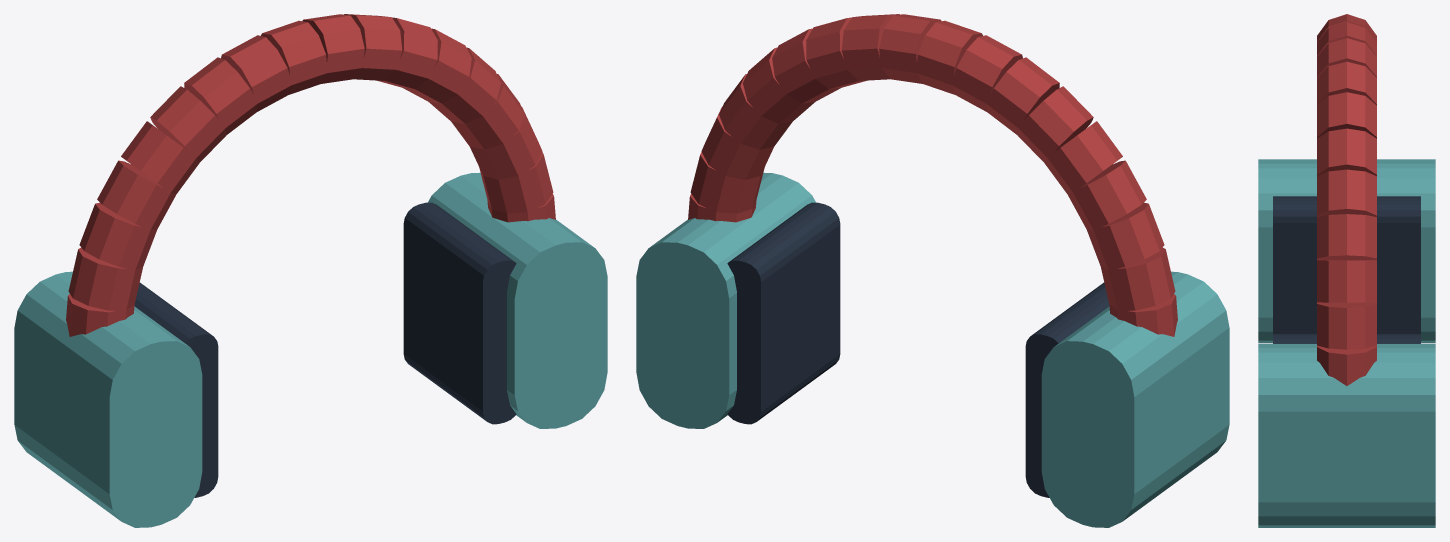
Rendered from headphones.glb.
3 views of the same model, side by side, from view 1: azimuth 30°, elevation 25°; view 2: azimuth 150°, elevation 25°; view 3: azimuth 270°, elevation 25° (orthographic). The views are drawn at different scales.
Parts seen in each view (by area): view 1: left cup, right cup, right pad, left pad, headband15, headband14, headband12, headband16, headband11, headband13, headband10, headband9 (+10 smaller); view 2: left cup, right cup, right pad, left pad, headband15, headband14, headband12, headband16, headband11, headband13, headband10, headband9 (+10 smaller); view 3: right cup, left pad, left cup, headband1, headband3, headband4, headband2, headband5, headband6, headband7, headband0, headband8 (+3 smaller).
Boxes of the visible parts, x1=… form: left cup: x1=14, y1=271, x2=202, y2=527; right cup: x1=428, y1=172, x2=607, y2=428; right pad: x1=403, y1=202, x2=516, y2=424; left pad: x1=134, y1=282, x2=218, y2=497; headband15: x1=79, y1=202, x2=156, y2=269; headband14: x1=97, y1=160, x2=176, y2=230; headband12: x1=150, y1=86, x2=226, y2=162; headband16: x1=68, y1=247, x2=142, y2=310; headband11: x1=184, y1=57, x2=257, y2=134; headband13: x1=121, y1=121, x2=199, y2=194; headband10: x1=221, y1=35, x2=292, y2=111; headband9: x1=261, y1=20, x2=327, y2=94; left cup: x1=1041, y1=271, x2=1229, y2=527; right cup: x1=636, y1=172, x2=815, y2=428; right pad: x1=727, y1=202, x2=840, y2=424; left pad: x1=1025, y1=282, x2=1109, y2=497; headband15: x1=1087, y1=202, x2=1164, y2=270; headband14: x1=1067, y1=160, x2=1146, y2=230; headband12: x1=1017, y1=86, x2=1093, y2=162; headband16: x1=1101, y1=247, x2=1175, y2=310; headband11: x1=986, y1=57, x2=1059, y2=134; headband13: x1=1044, y1=121, x2=1122, y2=194; headband10: x1=951, y1=35, x2=1022, y2=111; headband9: x1=917, y1=20, x2=982, y2=94; right cup: x1=1258, y1=344, x2=1435, y2=527; left pad: x1=1273, y1=196, x2=1420, y2=333; left cup: x1=1258, y1=159, x2=1435, y2=343; headband1: x1=1317, y1=302, x2=1376, y2=349; headband3: x1=1317, y1=214, x2=1376, y2=259; headband4: x1=1317, y1=169, x2=1376, y2=216; headband2: x1=1317, y1=260, x2=1376, y2=302; headband5: x1=1317, y1=128, x2=1376, y2=176; headband6: x1=1317, y1=92, x2=1376, y2=138; headband7: x1=1317, y1=61, x2=1376, y2=105; headband0: x1=1317, y1=345, x2=1376, y2=385; headband8: x1=1317, y1=38, x2=1376, y2=77.
Bounding box in the file's own units: 1.45 × 1.17 × 0.48.
